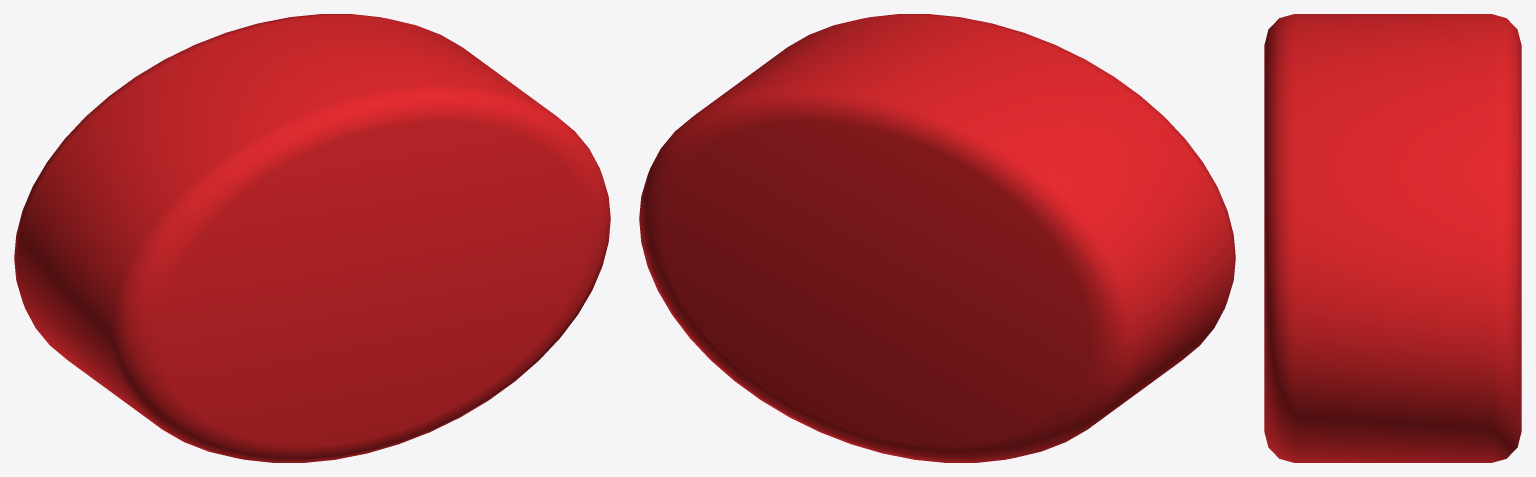
Rendered from SM_AGV_Button_EStop.fbx.
The picture shows the model from 3 angles, left to right: view 1: azimuth 30°, elevation 25°; view 2: azimuth 150°, elevation 25°; view 3: azimuth 270°, elevation 25°; orthographic projection. The views are drawn at different scales.
Parts seen in each view (by area): view 1: SM_AGV_Button_EStop.001; view 2: SM_AGV_Button_EStop.001; view 3: SM_AGV_Button_EStop.001.
Part boxes in pixels (box(x1,y1,x2,y2)): SM_AGV_Button_EStop.001: box(14, 14, 610, 462); SM_AGV_Button_EStop.001: box(639, 14, 1235, 462); SM_AGV_Button_EStop.001: box(1264, 14, 1521, 462).
Size of the model in its own units: 0.085 by 0.0366 by 0.0583.
